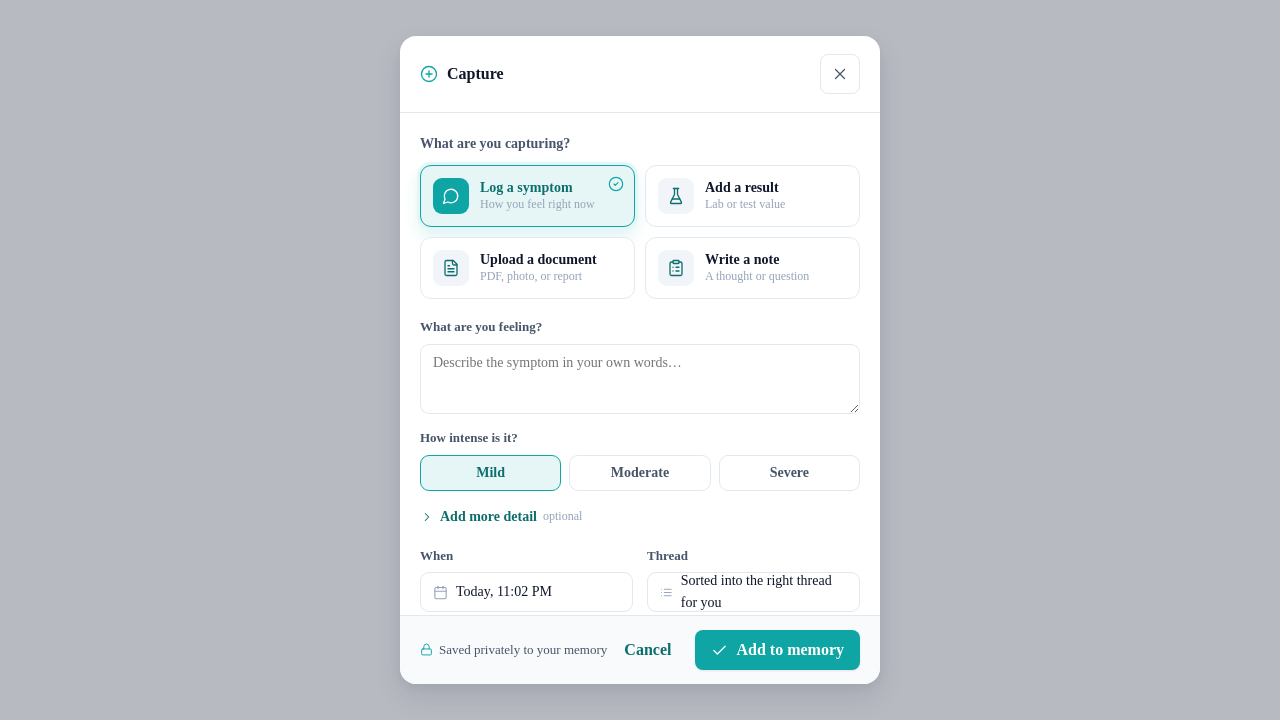
Scenario: CaptureModal › surfaces an error and stays open when the API rejects
Type "headache" into the text box with placeholder "Describe the symptom in your own words…".
click(640, 379); type("headache")  # box 420,344 -> 860,414
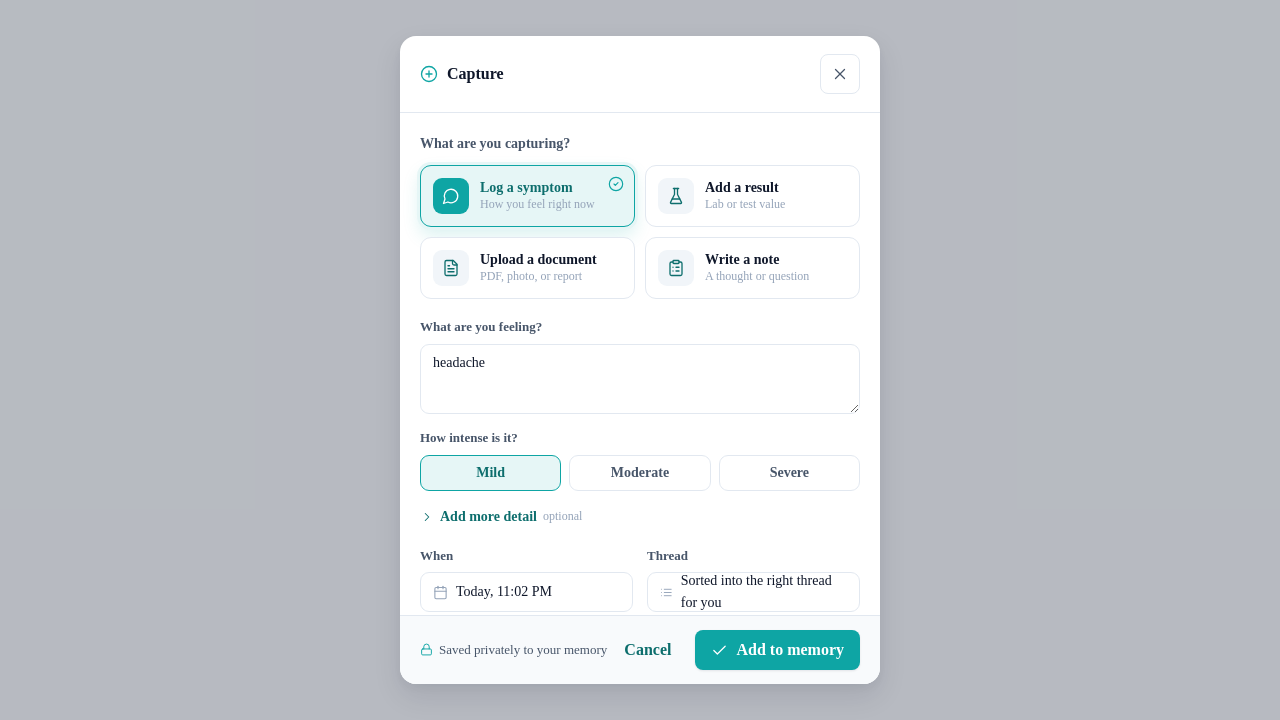
Click the button "Add to memory".
click(778, 650)  # box 696,630 -> 860,670
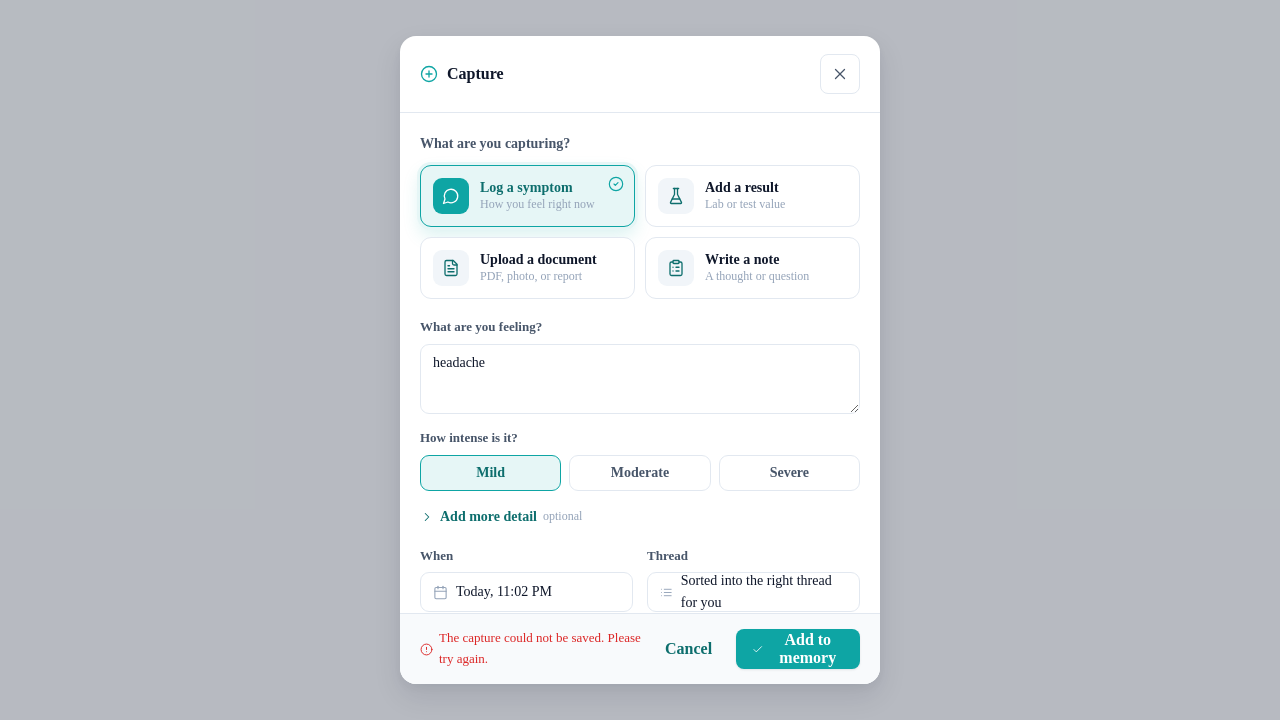
Expected: the text "The capture could not be saved. Please try again." is shown, 420,628 -> 649,670
